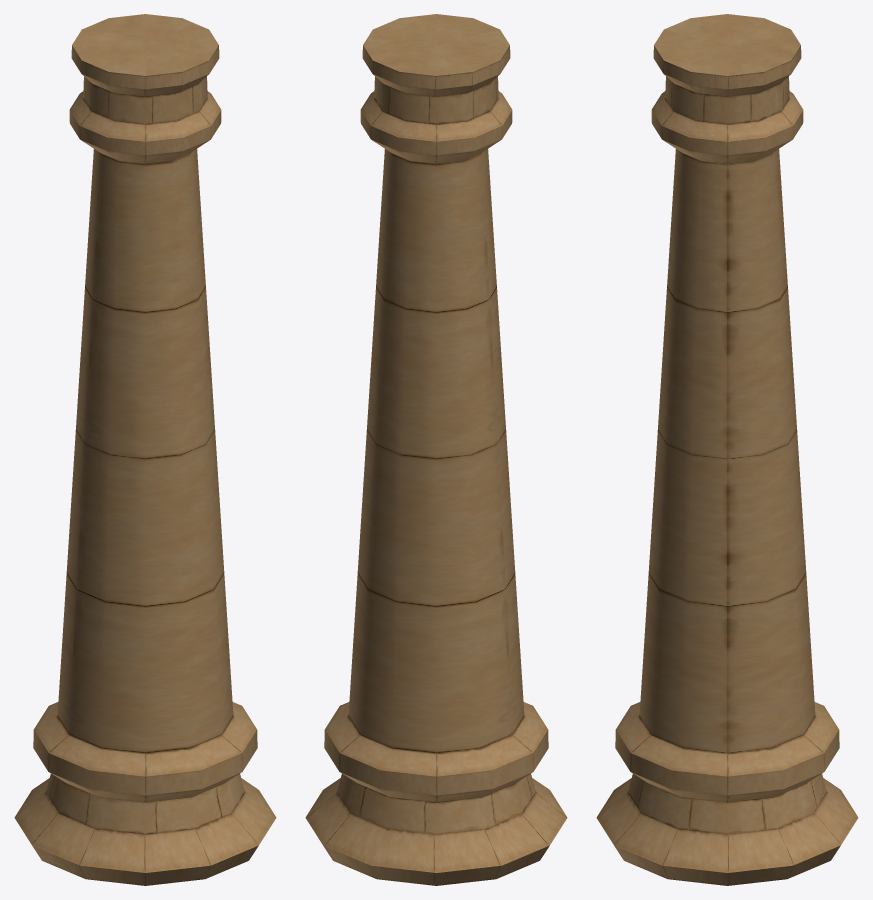
Rendered from TatuterraTemple_Past_Column.fbx.
3 views of the same model, side by side, from view 1: azimuth 30°, elevation 25°; view 2: azimuth 150°, elevation 25°; view 3: azimuth 270°, elevation 25° (orthographic).
Parts seen in each view (by area): view 1: TatuterraTemple_Past_Column; view 2: TatuterraTemple_Past_Column; view 3: TatuterraTemple_Past_Column.
Part boxes in pixels (x1,y1,x2,y2): TatuterraTemple_Past_Column: (14,14,276,885); TatuterraTemple_Past_Column: (305,14,567,885); TatuterraTemple_Past_Column: (596,14,858,885).
Size of the model in its own units: 180 by 600 by 180.
